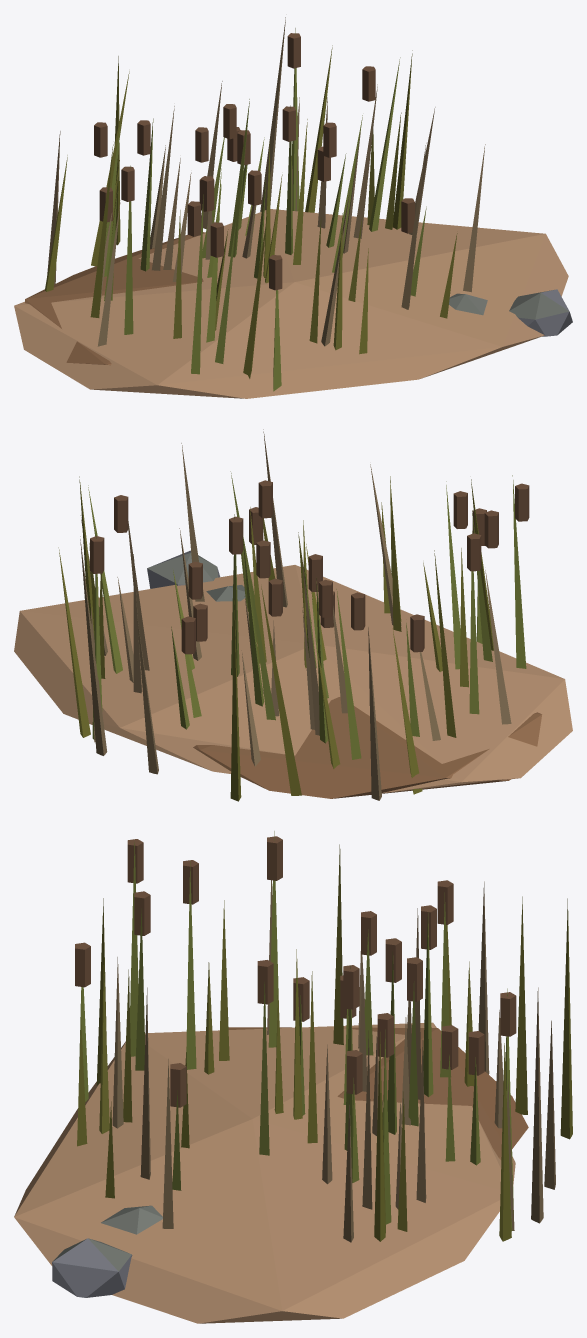
The model's file is lair-reeds.glb.
The picture shows the model from 3 angles, top to bottom: view 1: azimuth 30°, elevation 25°; view 2: azimuth 150°, elevation 25°; view 3: azimuth 270°, elevation 25°; orthographic projection. The views are drawn at different scales.
Parts seen in each view (by area): view 1: lair-reeds; view 2: lair-reeds; view 3: lair-reeds.
Boxes of the visible parts, x1,y1,x2,y2 form: lair-reeds: (14, 17, 572, 398); lair-reeds: (14, 429, 572, 801); lair-reeds: (14, 831, 572, 1323).
Size of the model in its own units: 4.84 by 1.86 by 3.77.
